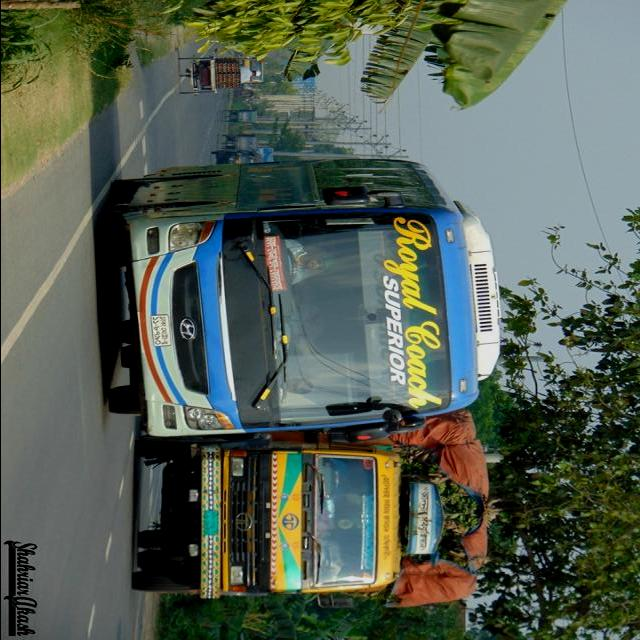bus: (96, 156, 502, 446)
